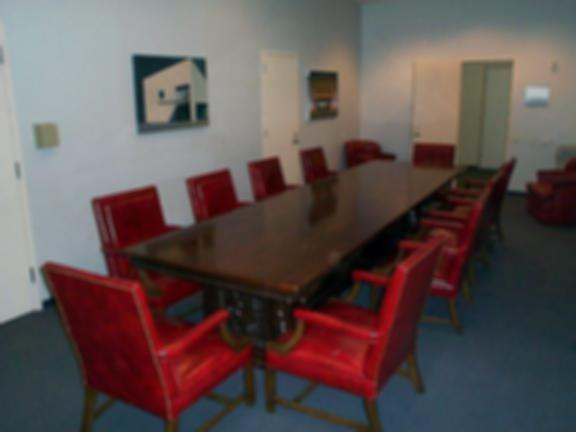Puerta: (0, 37, 43, 310), (413, 64, 457, 142), (265, 54, 298, 156)
